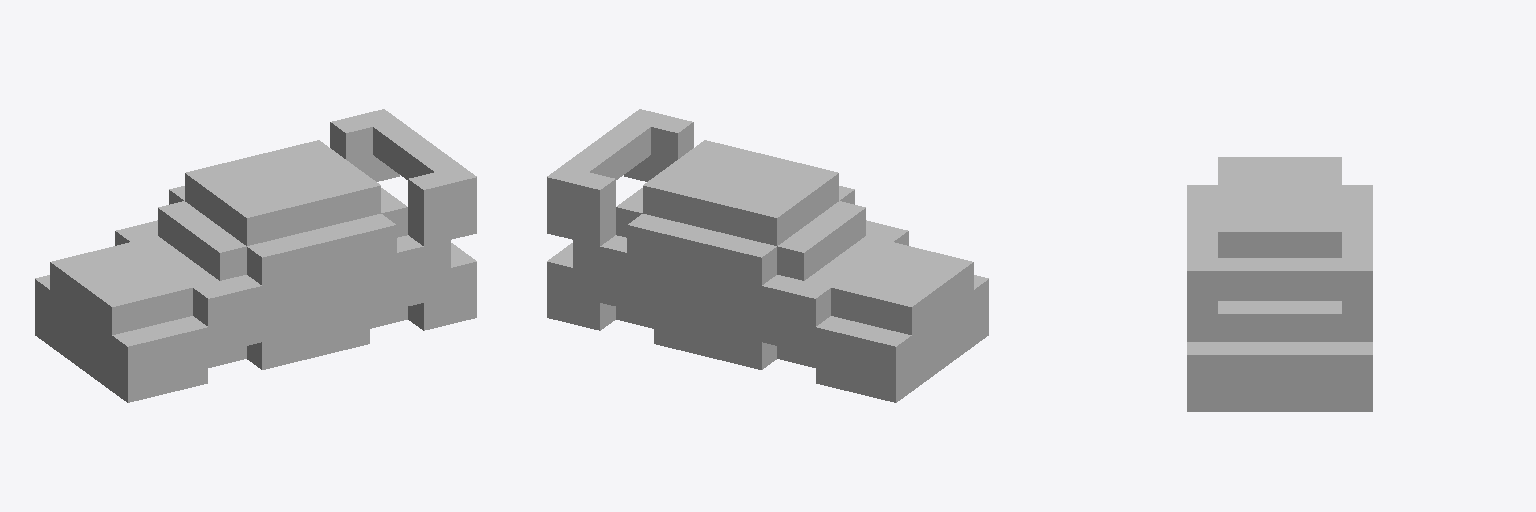
Rendered from racer-v6-blue.obj.
The picture shows the model from 3 angles: view 1: azimuth 30°, elevation 25°; view 2: azimuth 150°, elevation 25°; view 3: azimuth 270°, elevation 25°; orthographic projection.
Parts seen in each view (by area): view 1: object 1; view 2: object 1; view 3: object 1.
Boxes of the visible parts, x1,y1,x2,y2 form: object 1: [35, 109, 476, 402]; object 1: [547, 109, 988, 402]; object 1: [1187, 157, 1372, 411].
Bounding box in the file's own units: 1.3 × 0.5 × 0.6.